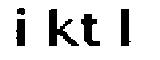i: (11, 3, 29, 52)
k: (44, 6, 78, 49)
l: (116, 1, 145, 51)
t: (78, 10, 103, 49)
